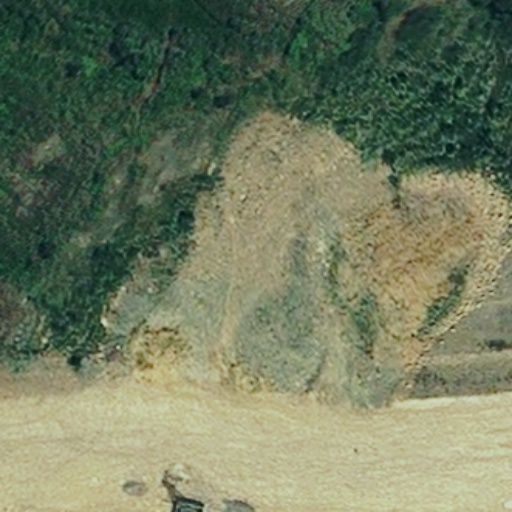landslide: (144, 109, 508, 421)
